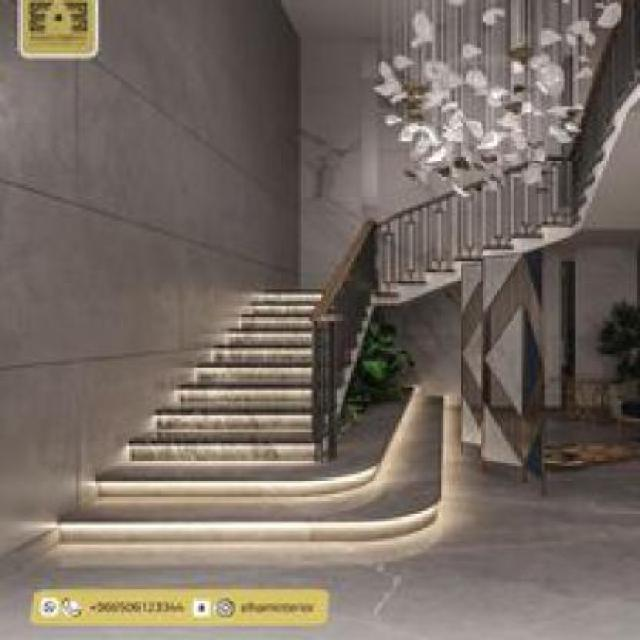stair: (108, 245, 412, 478)
